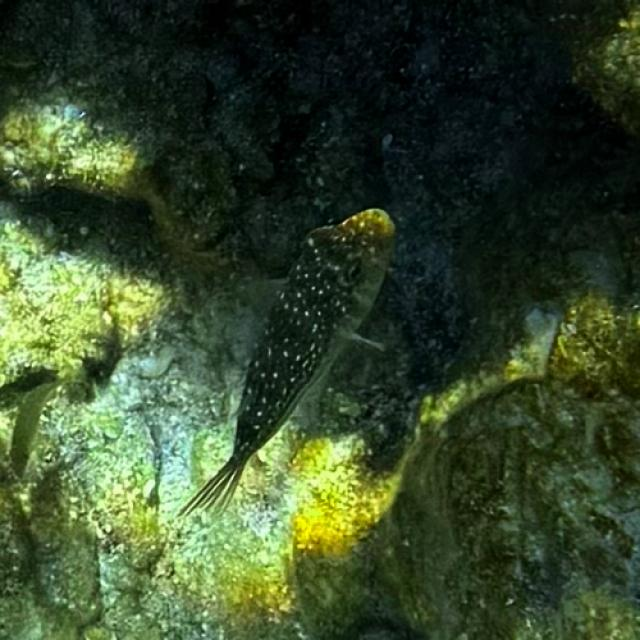Balik: (180, 209, 394, 515)
